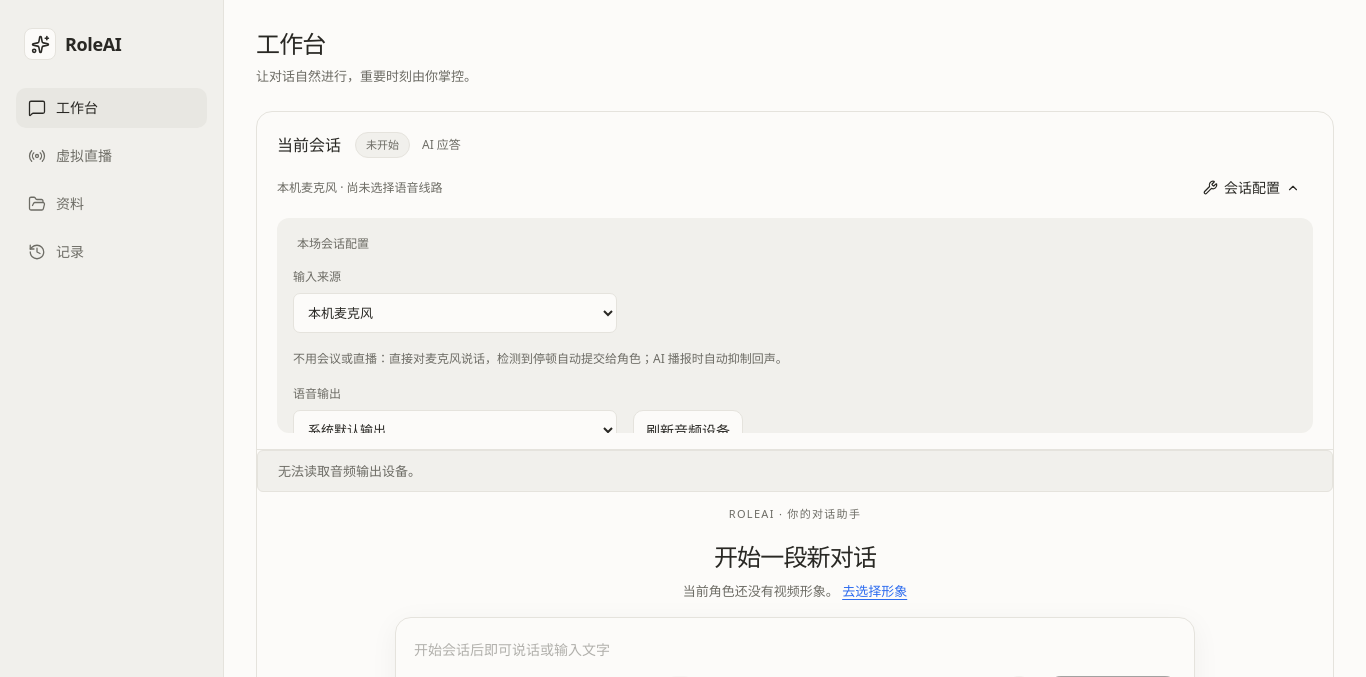
Shell › follows an in-page link to the settings category it names
(page scrolled)
Click the link "去选择形象": x=875, y=591 [842, 582, 907, 600]
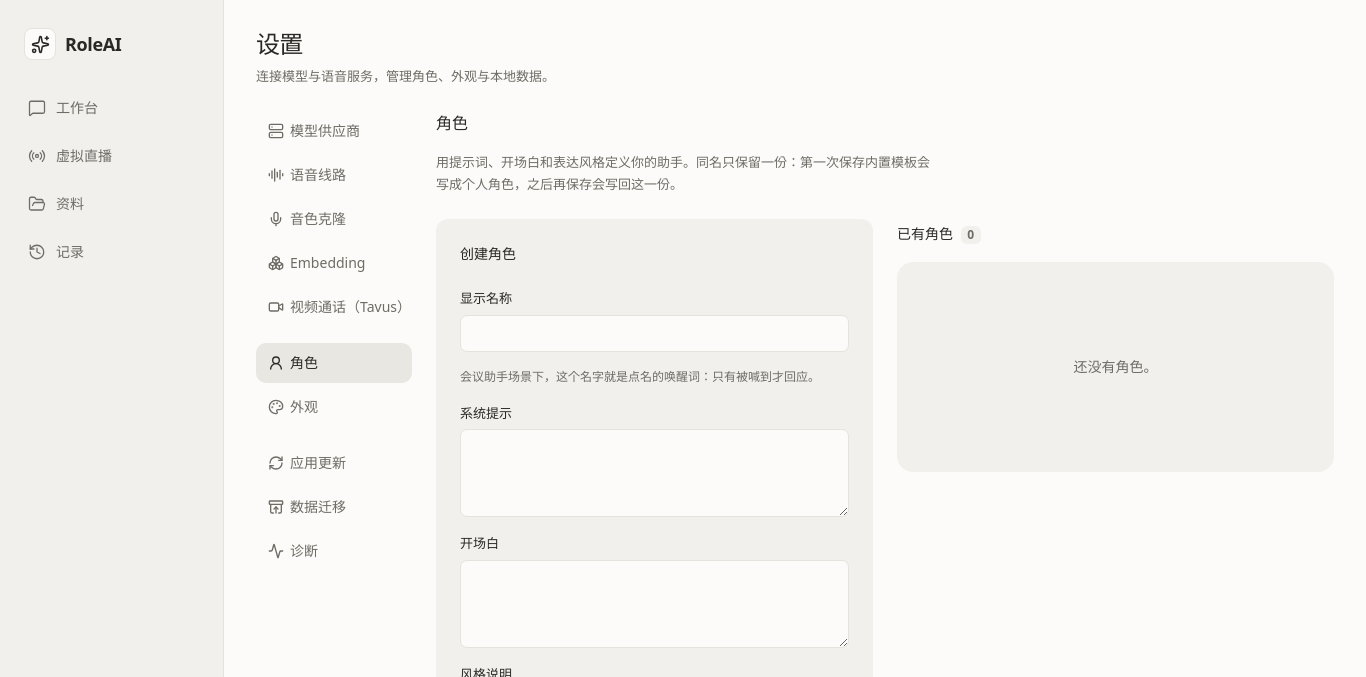
Now the heading "设置" is shown, box [256, 27, 302, 60]
